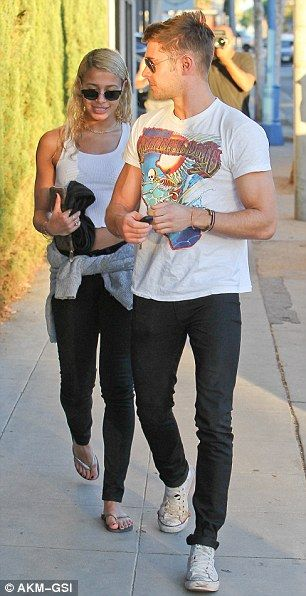Person: (104, 11, 281, 593), (31, 47, 136, 535)
